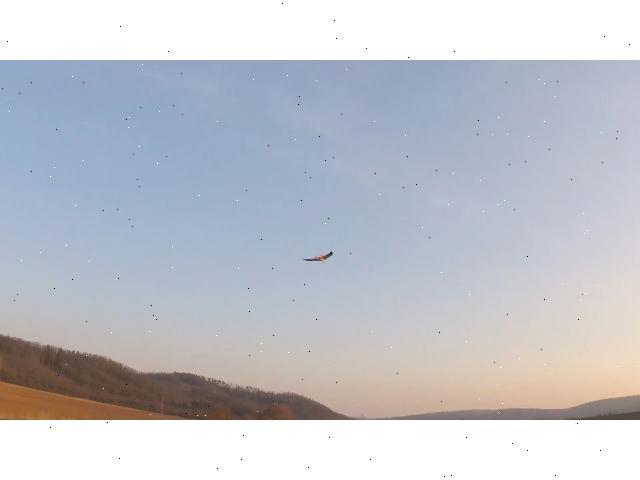Anti-Drone: (302, 251, 334, 261)
